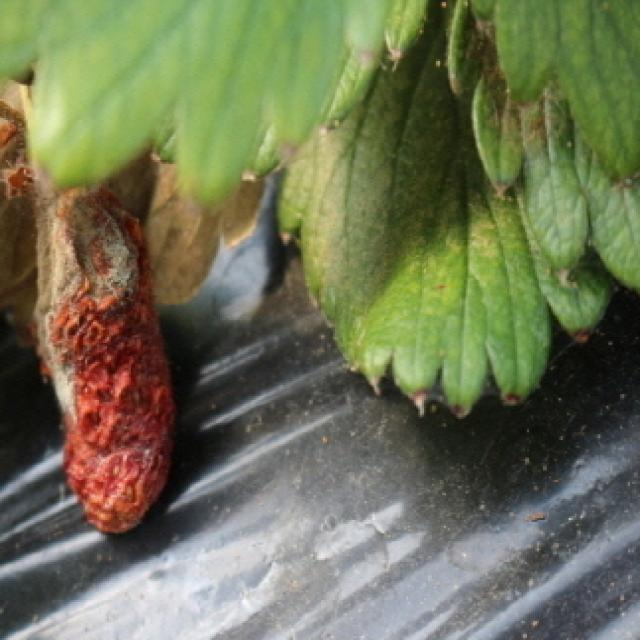Gray Mold: (2, 161, 173, 536)
